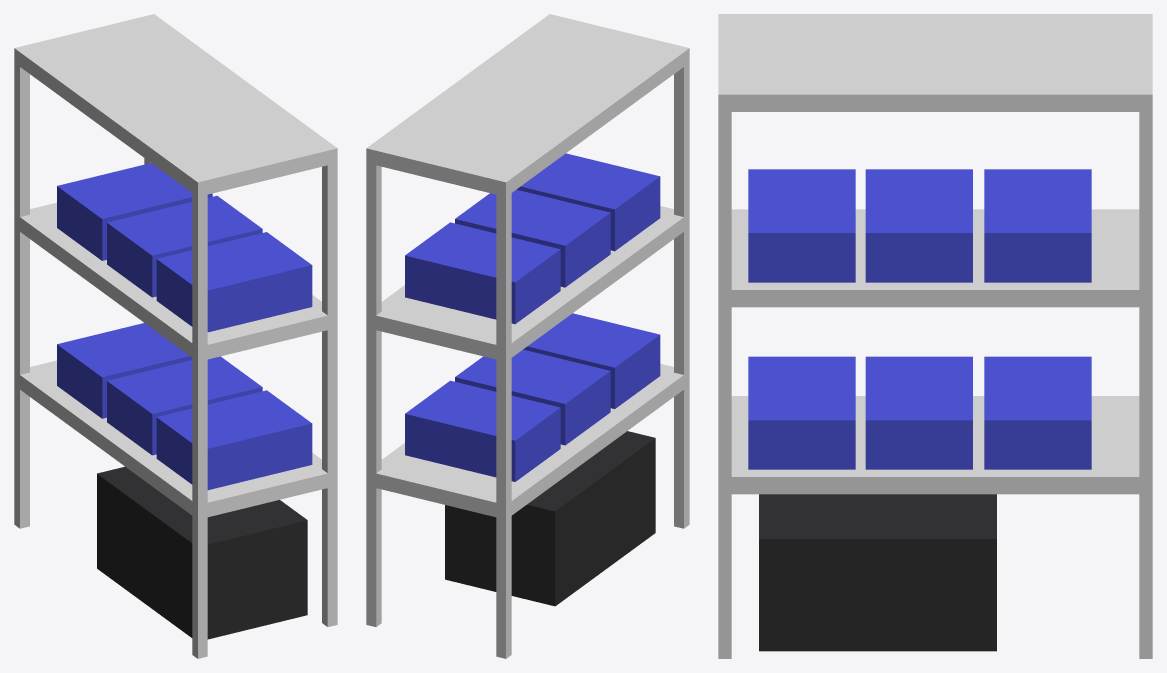
The model's file is aeroTwin.gltf.
3 renders of one model, left to right at view 1: azimuth 30°, elevation 25°; view 2: azimuth 150°, elevation 25°; view 3: azimuth 270°, elevation 25°, orthographic. The views are drawn at different scales.
Parts seen in each view (by area): view 1: Cube.006, Cube.013, Cube.010, Cube.007, Cube.005, Cube.004, Cube.003, Cube.001, Cube.011, Cube.002, Cube.008, Cube.012 (+1 smaller); view 2: Cube.006, Cube.013, Cube.004, Cube.005, Cube.012, Cube.009, Cube.002, Cube, Cube.011, Cube.003, Cube.010, Cube.008 (+1 smaller); view 3: Cube.006, Cube.013, Cube.004, Cube.005, Cube.007, Cube.009, Cube.010, Cube.011, Cube.012, Cube.008, Cube, Cube.001.
Boxes of the visible parts, bbox=[...] form: Cube.006: bbox=[14, 14, 337, 196]; Cube.013: bbox=[97, 466, 307, 639]; Cube.010: bbox=[156, 232, 312, 332]; Cube.007: bbox=[156, 390, 312, 490]; Cube.005: bbox=[14, 360, 337, 519]; Cube.004: bbox=[14, 202, 337, 361]; Cube.003: bbox=[192, 193, 207, 658]; Cube.001: bbox=[322, 163, 337, 626]; Cube.011: bbox=[107, 195, 262, 297]; Cube.002: bbox=[14, 63, 29, 528]; Cube.008: bbox=[107, 356, 262, 455]; Cube.012: bbox=[57, 163, 212, 260]; Cube.006: bbox=[366, 14, 689, 196]; Cube.013: bbox=[445, 431, 655, 606]; Cube.004: bbox=[366, 206, 689, 361]; Cube.005: bbox=[366, 363, 689, 519]; Cube.012: bbox=[405, 222, 560, 324]; Cube.009: bbox=[405, 380, 560, 481]; Cube.002: bbox=[496, 193, 511, 658]; Cube: bbox=[366, 163, 381, 626]; Cube.011: bbox=[455, 189, 610, 287]; Cube.003: bbox=[674, 63, 689, 528]; Cube.010: bbox=[517, 153, 660, 251]; Cube.008: bbox=[455, 349, 610, 445]; Cube.006: bbox=[718, 14, 1152, 111]; Cube.013: bbox=[759, 494, 996, 651]; Cube.004: bbox=[718, 209, 1152, 307]; Cube.005: bbox=[718, 396, 1152, 494]; Cube.007: bbox=[748, 356, 855, 469]; Cube.009: bbox=[984, 356, 1091, 469]; Cube.010: bbox=[748, 169, 855, 282]; Cube.011: bbox=[865, 169, 972, 282]; Cube.012: bbox=[984, 169, 1091, 282]; Cube.008: bbox=[865, 356, 972, 469]; Cube: bbox=[1139, 112, 1152, 658]; Cube.001: bbox=[718, 112, 731, 658].
Size of the model in its own units: 0.57 by 1.86 by 1.3.
